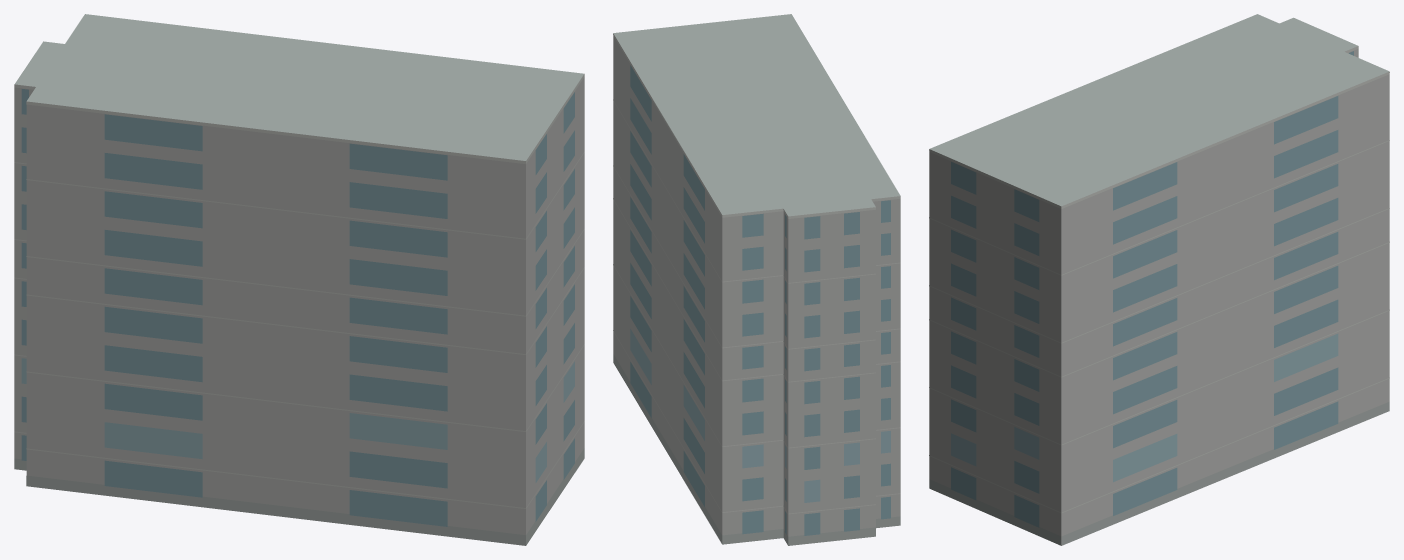
The model's file is residential-97924c78-a4eb-4cd1-bf35-096388318c86.glb.
The picture shows the model from 3 angles, left to right: view 1: azimuth 30°, elevation 25°; view 2: azimuth 150°, elevation 25°; view 3: azimuth 270°, elevation 25°; orthographic projection. The views are drawn at different scales.
Parts seen in each view (by area): view 1: residential-97924c78-a4eb-4cd1-bf35-096388318c86.tmp; view 2: residential-97924c78-a4eb-4cd1-bf35-096388318c86.tmp; view 3: residential-97924c78-a4eb-4cd1-bf35-096388318c86.tmp.
Boxes of the visible parts, x1,y1,x2,y2 form: residential-97924c78-a4eb-4cd1-bf35-096388318c86.tmp: (14, 14, 584, 545); residential-97924c78-a4eb-4cd1-bf35-096388318c86.tmp: (613, 14, 900, 545); residential-97924c78-a4eb-4cd1-bf35-096388318c86.tmp: (929, 14, 1389, 545).
Bounding box in the file's own units: 37.09 × 30.5 × 37.51.
